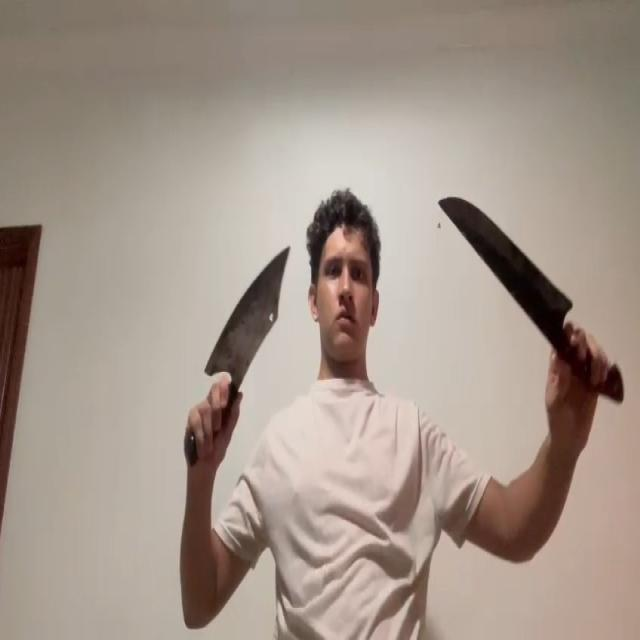knife: (438, 196, 573, 310), (204, 244, 290, 378)
